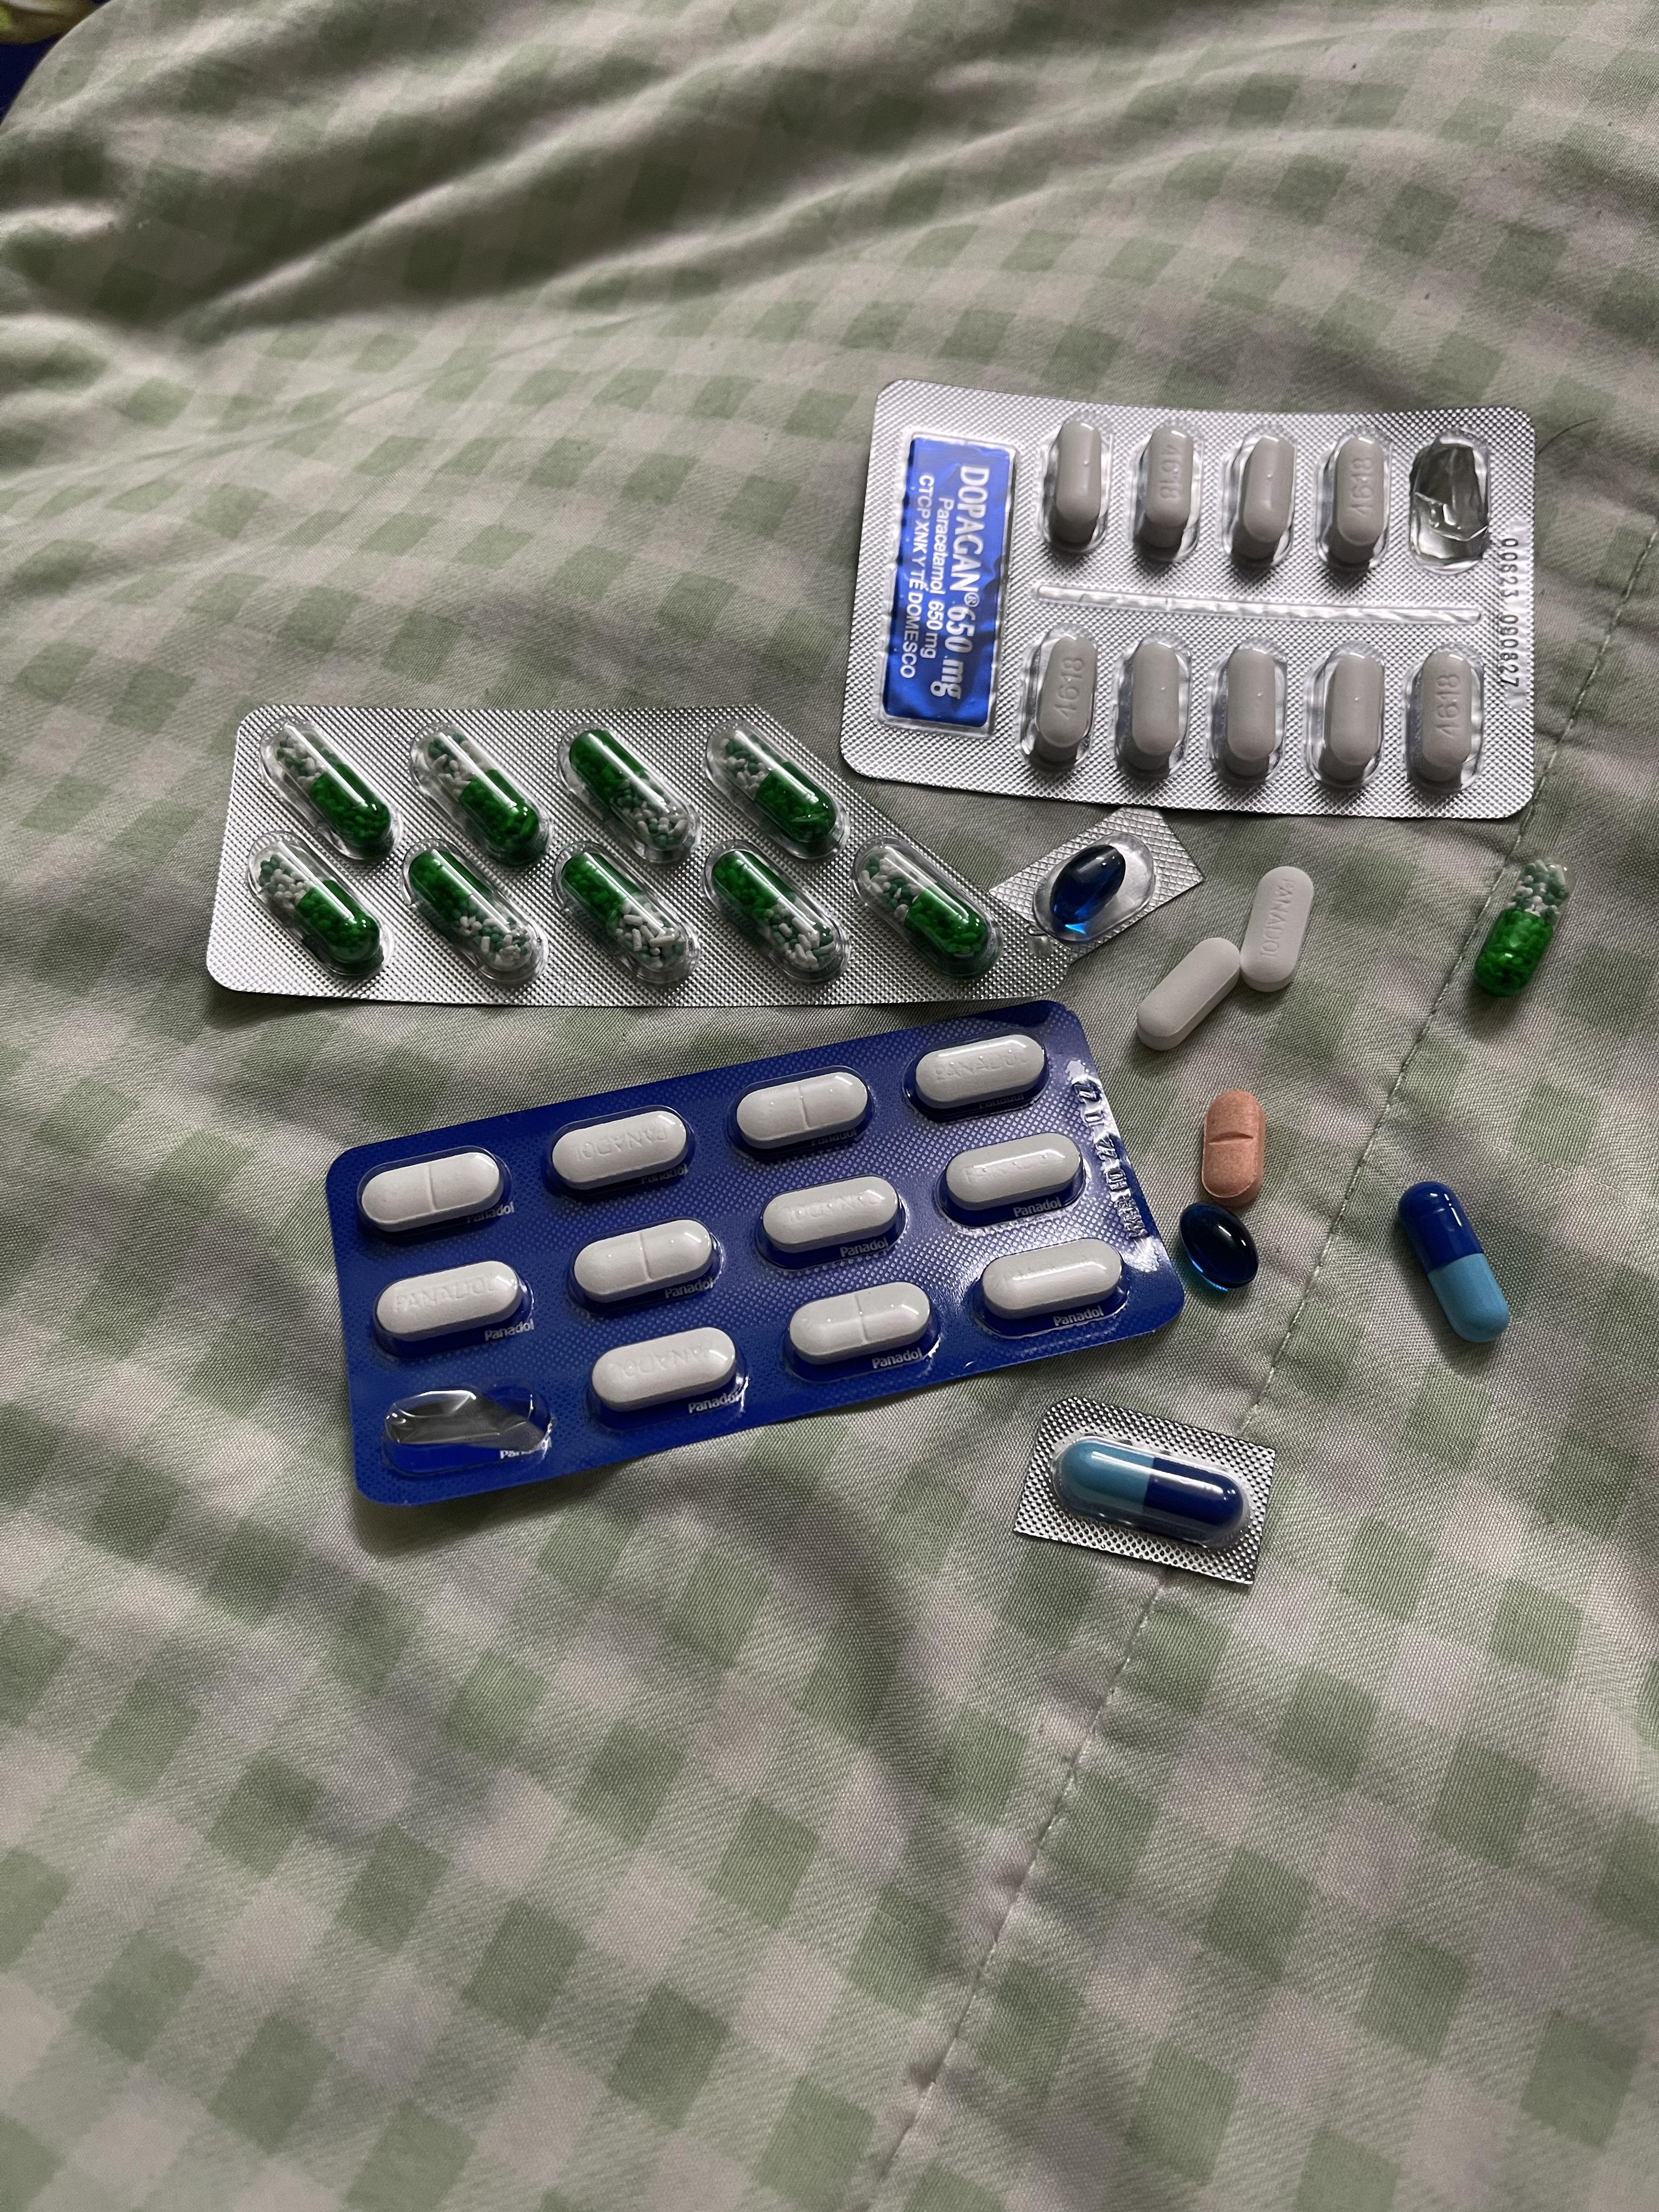Lincomyxin_500mg: (1177, 1201, 1259, 1289), (1048, 844, 1128, 929)
Loratadine_10mg: (1201, 1092, 1266, 1206)
Paracetamol_350mg: (375, 1259, 527, 1348), (592, 1327, 743, 1414), (360, 1149, 505, 1238), (574, 1222, 719, 1308), (551, 1107, 693, 1193), (980, 1238, 1124, 1322), (944, 1131, 1083, 1213), (789, 1285, 926, 1368), (762, 1177, 901, 1256), (735, 1070, 872, 1150), (912, 1030, 1044, 1108), (1240, 864, 1318, 993)
Paracetamol_500mg: (1135, 936, 1245, 1048), (1308, 646, 1386, 786), (1115, 634, 1192, 772), (1020, 629, 1097, 765), (1209, 639, 1284, 777), (1408, 651, 1482, 787), (1318, 432, 1391, 570), (1231, 436, 1295, 566), (1135, 423, 1196, 552), (1045, 417, 1105, 547)
Paracetamol_650mg: (708, 717, 846, 860), (557, 847, 693, 981), (269, 727, 400, 860), (410, 727, 541, 853), (257, 848, 380, 974), (859, 846, 976, 974), (712, 847, 832, 968), (1471, 859, 1571, 999), (570, 724, 689, 840), (410, 847, 526, 964)
pill: (1054, 1433, 1252, 1548), (1393, 1178, 1510, 1341)
